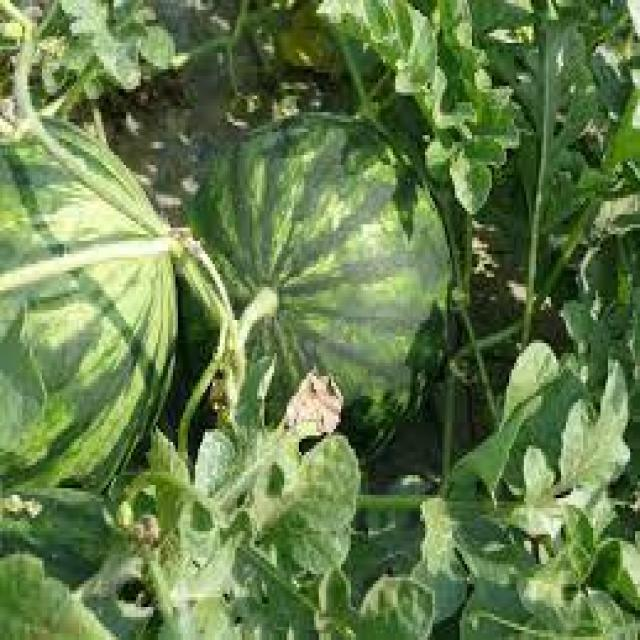watermelon: (178, 109, 457, 429), (0, 112, 178, 495)
